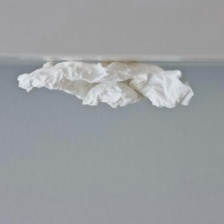tissue: (13, 55, 198, 114)
